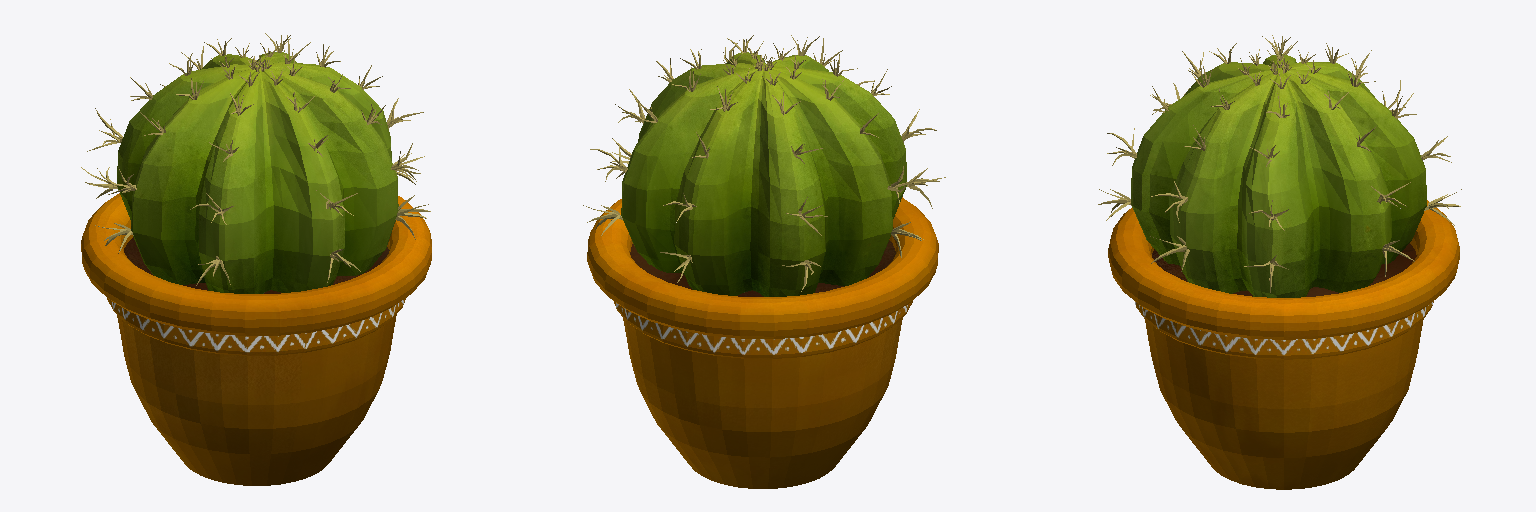
3 renders of one model, left to right at view 1: azimuth 30°, elevation 25°; view 2: azimuth 150°, elevation 25°; view 3: azimuth 270°, elevation 25°, orthographic.
Visible parts, largest first — view 1: 000_Cactus; view 2: 000_Cactus; view 3: 000_Cactus.
Part boxes in pixels (left/top/right/bottom): 000_Cactus: left=81, top=33, right=431, bottom=485; 000_Cactus: left=583, top=35, right=945, bottom=488; 000_Cactus: left=1098, top=35, right=1461, bottom=489.
Bounding box in the file's own units: 210 × 253 × 215.
Materials: 1 (1 with a texture image).